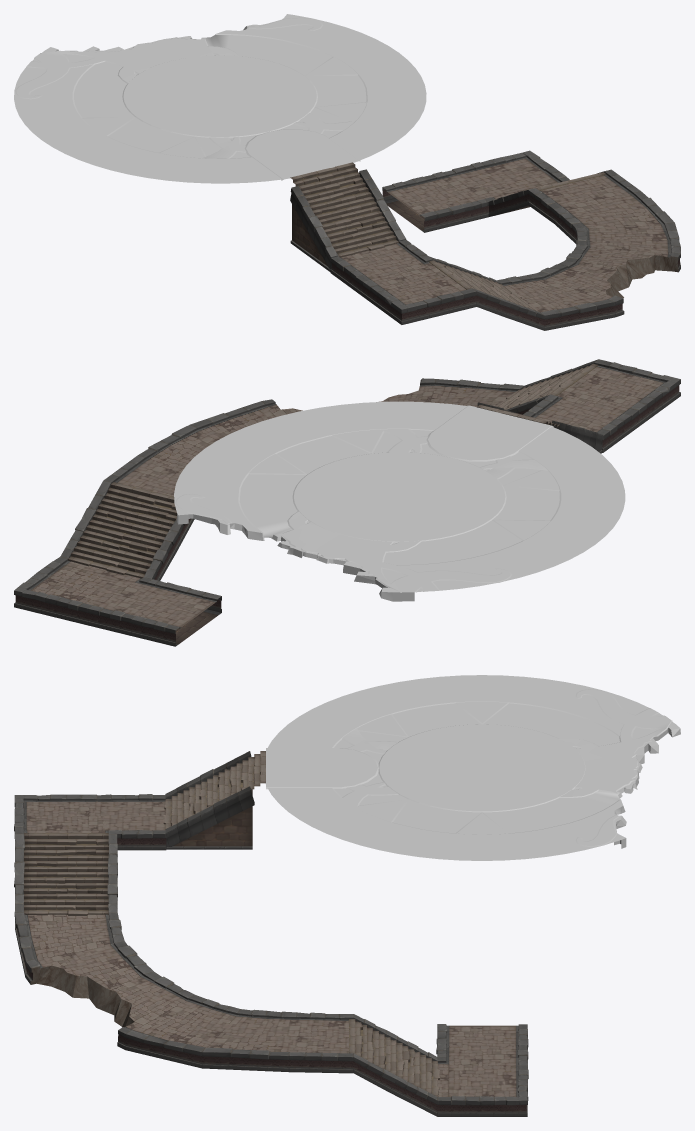
The model's file is sc_dungeon_moshenta_ta_002.FBX.
The picture shows the model from 3 angles, top to bottom: view 1: azimuth 30°, elevation 25°; view 2: azimuth 150°, elevation 25°; view 3: azimuth 270°, elevation 25°; orthographic projection. The views are drawn at different scales.
Visible parts, largest first — view 1: sc_dungeon_moshenta_ta_002_a, sc_dungeon_moshenta_ta_002_b; view 2: sc_dungeon_moshenta_ta_002_a, sc_dungeon_moshenta_ta_002_b; view 3: sc_dungeon_moshenta_ta_002_b, sc_dungeon_moshenta_ta_002_a.
Part boxes in pixels (left/top/right/bottom): sc_dungeon_moshenta_ta_002_a: left=14, top=14, right=426, bottom=183; sc_dungeon_moshenta_ta_002_b: left=290, top=150, right=680, bottom=330; sc_dungeon_moshenta_ta_002_a: left=174, top=401, right=625, bottom=601; sc_dungeon_moshenta_ta_002_b: left=14, top=359, right=680, bottom=646; sc_dungeon_moshenta_ta_002_b: left=14, top=751, right=528, bottom=1116; sc_dungeon_moshenta_ta_002_a: left=265, top=675, right=680, bottom=860.
Bounding box in the file's own units: 91.98 × 28.66 × 97.59.
